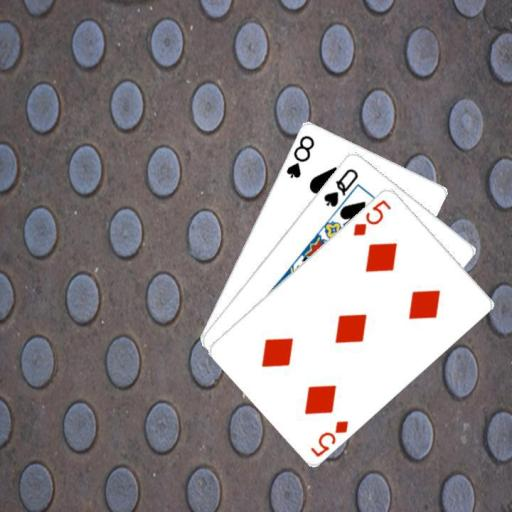5D: (350, 196, 393, 238), (307, 417, 351, 458)
8S: (283, 131, 317, 180)
QS: (320, 165, 360, 208)
